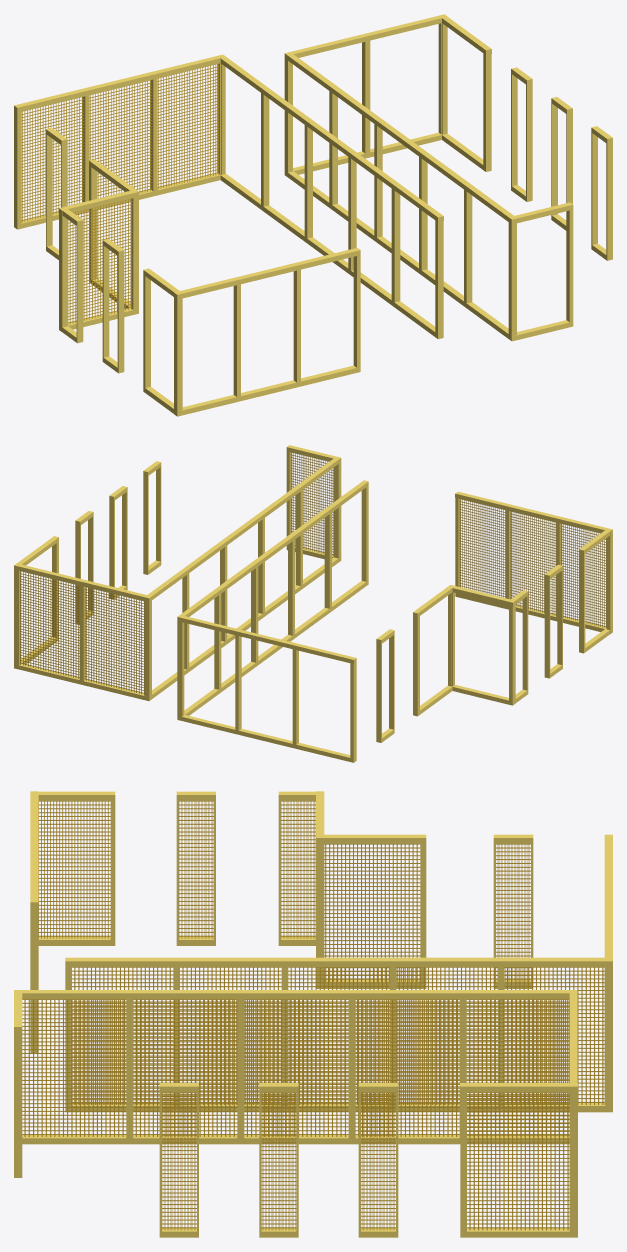
File: guardrail.glb
3 views of the same model, one above another, from view 1: azimuth 30°, elevation 25°; view 2: azimuth 150°, elevation 25°; view 3: azimuth 270°, elevation 25° (orthographic). The views are drawn at different scales.
Visible parts, largest first — view 1: 立方体.2 (×27), 平面.4 (×4), 立方体.1 (×14), 立方体 (×7), 立方体.3; view 2: 平面.4 (×6), 立方体.1 (×22), 立方体.2 (×16), 立方体 (×6), 立方体.3 (×2); view 3: 平面.4 (×19), 立方体 (×13), 立方体.1 (×14), 立方体.3 (×11), 立方体.2 (×3).
Boxes of the visible parts, <box> form: 立方体.2 (×27): <box>46,23,597,416</box>; 平面.4 (×4): <box>21,63,219,324</box>; 立方体.1 (×14): <box>14,23,612,373</box>; 立方体 (×7): <box>14,14,447,284</box>; 立方体.3: <box>153,173,220,196</box>; 平面.4 (×6): <box>20,452,605,694</box>; 立方体.1 (×22): <box>52,447,562,762</box>; 立方体.2 (×16): <box>14,458,612,742</box>; 立方体 (×6): <box>14,563,515,663</box>; 立方体.3 (×2): <box>79,679,512,705</box>; 平面.4 (×19): <box>22,801,604,1230</box>; 立方体 (×13): <box>15,791,612,1092</box>; 立方体.1 (×14): <box>14,838,577,1237</box>; 立方体.3 (×11): <box>22,936,612,1237</box>; 立方体.2 (×3): <box>110,795,612,1111</box>.
Bounding box in the file's own units: 415 × 98.95 × 356.
Materials: 2 (1 with a texture image).
